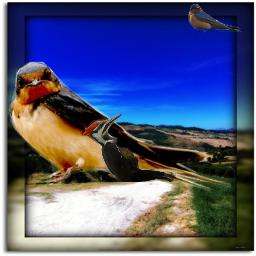Swallow: (7, 61, 231, 198), (188, 4, 245, 33)
Woodpecker: (77, 114, 176, 182)
